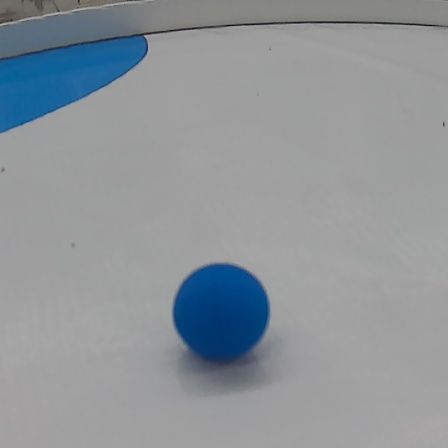blue: (171, 262, 272, 362)
blue_base: (1, 33, 153, 124)
